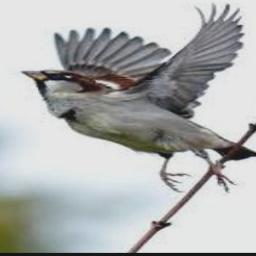Sparrow: (21, 2, 256, 191)
